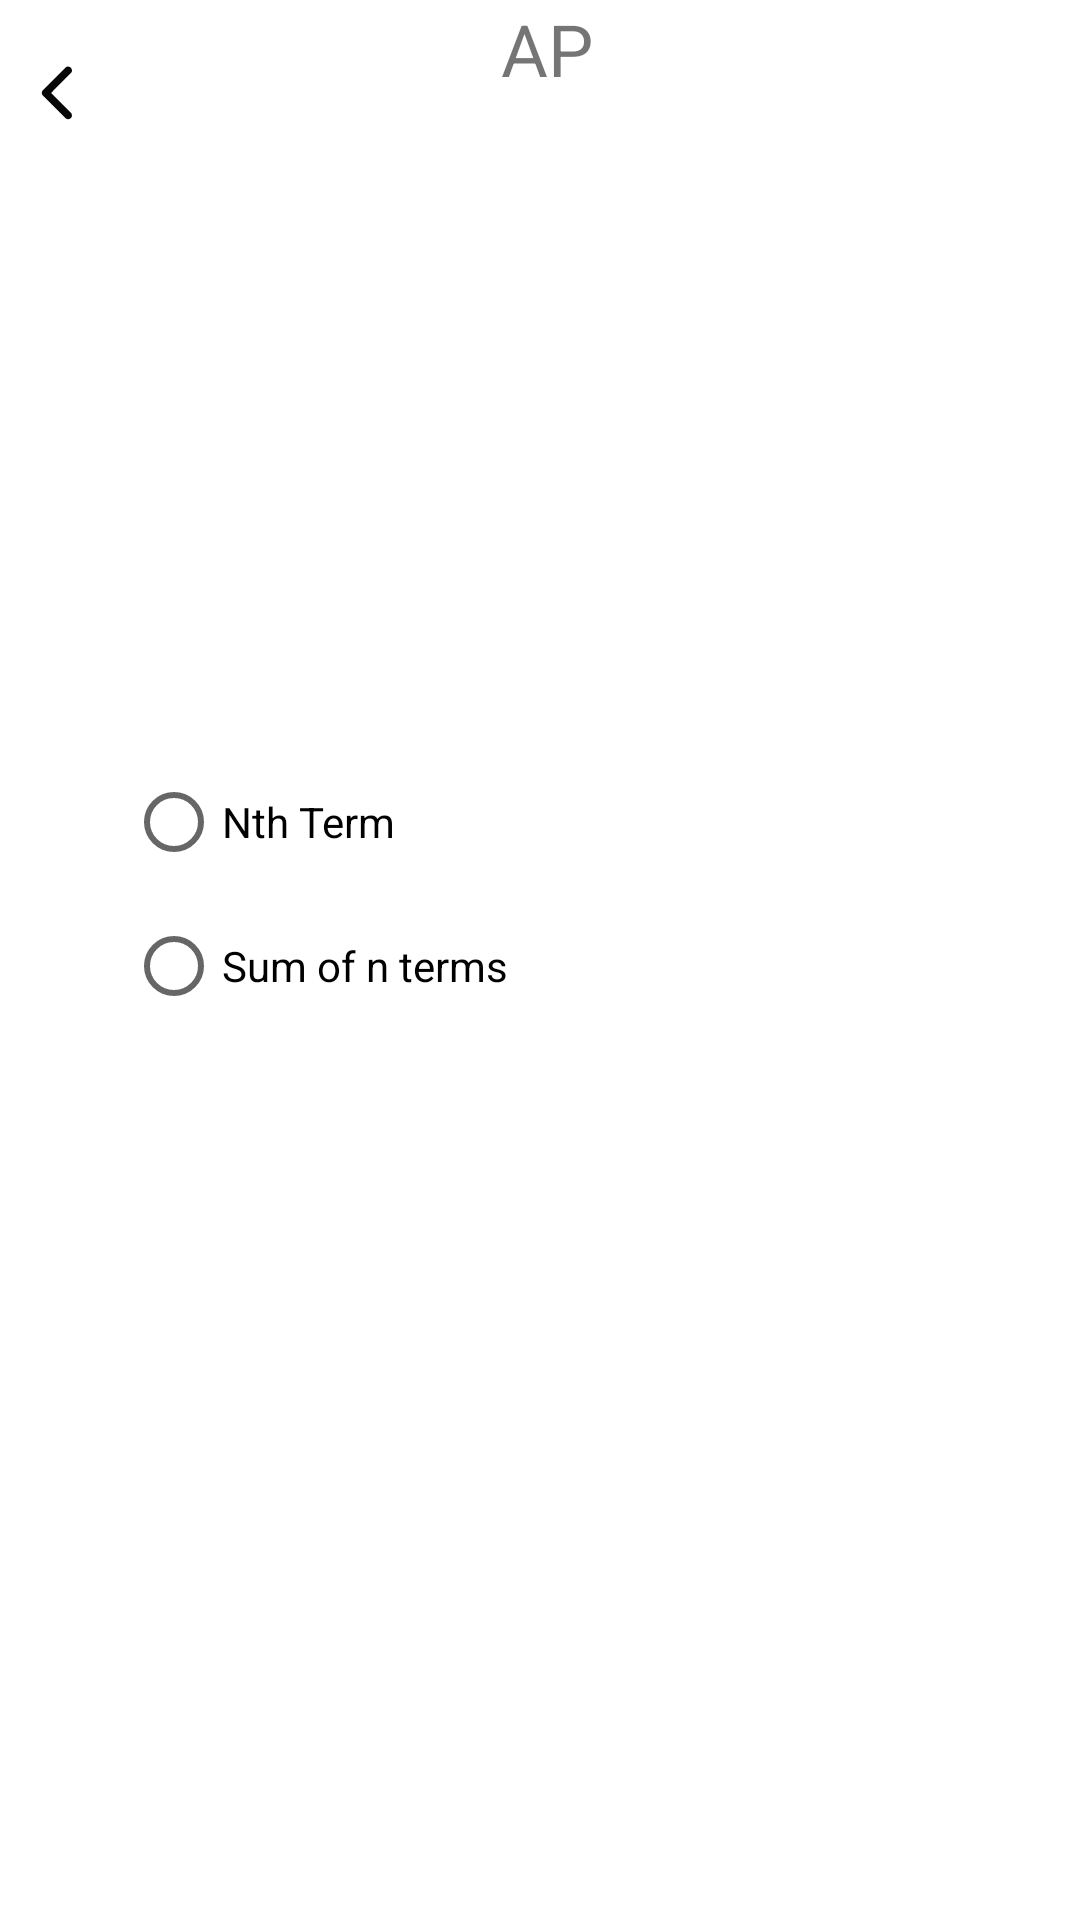

Named icons in this screenshot (1080px x 1920px) and their bounding boxes, {"left": x1, "top": y1, "right": x2, "bottom": y2}:
back: {"left": 41, "top": 66, "right": 72, "bottom": 120}
